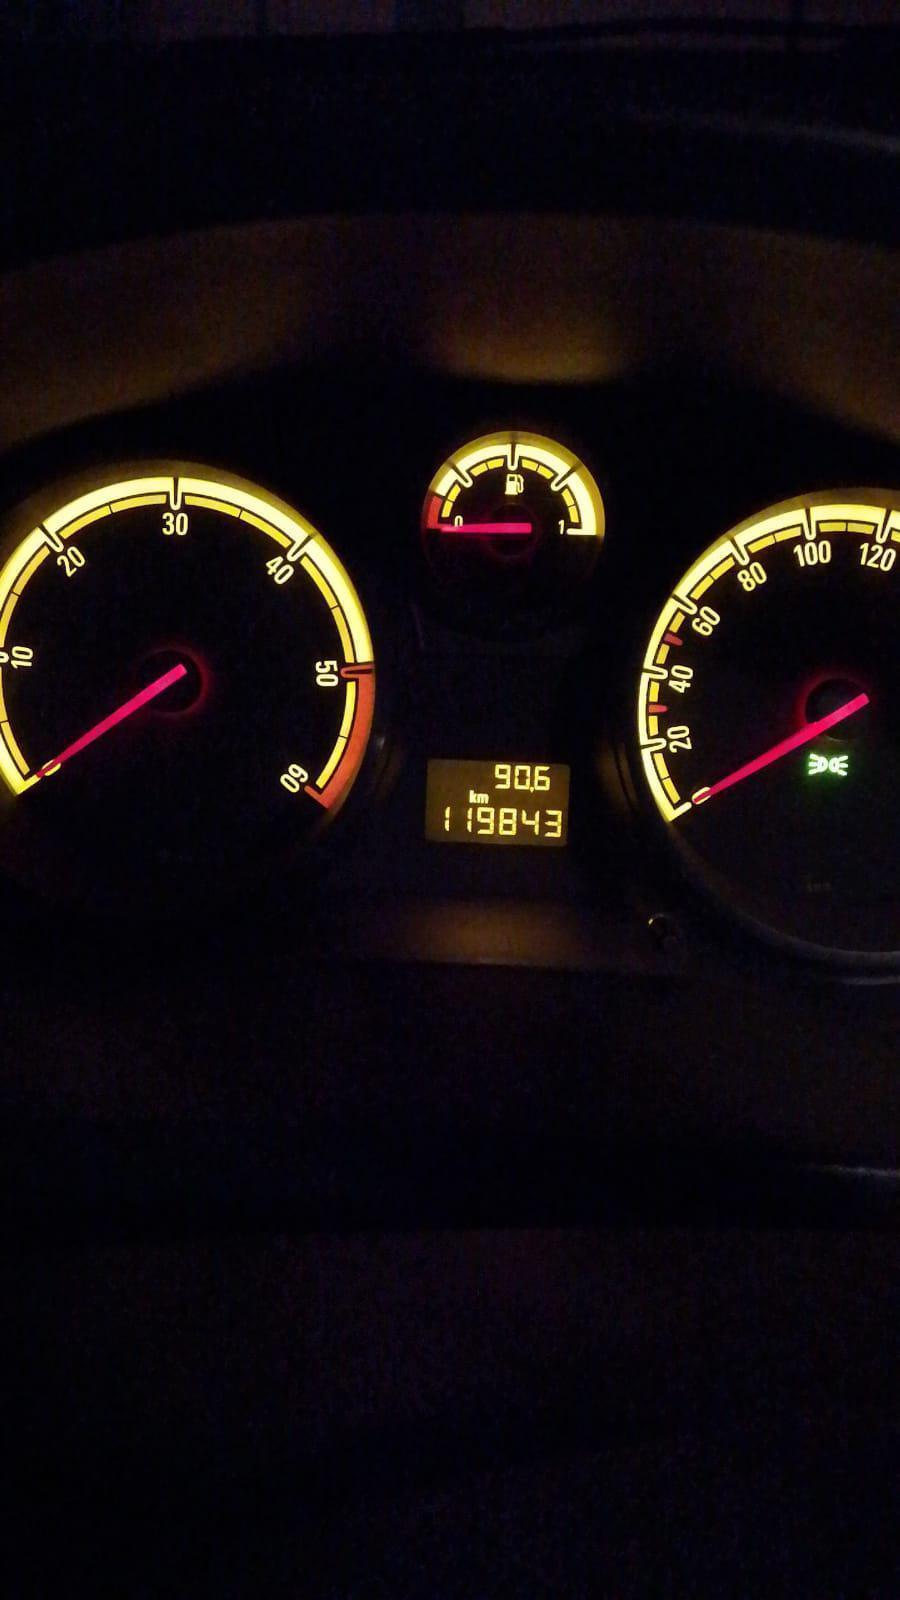,: (529, 786, 534, 792)
0: (513, 764, 530, 790)
1: (443, 805, 451, 832), (465, 807, 473, 833)
3: (543, 809, 562, 838)
4: (521, 809, 540, 835)
6: (533, 765, 551, 790)
8: (498, 807, 516, 835)
9: (476, 805, 495, 834), (493, 763, 511, 790)
X: (476, 793, 489, 804), (468, 789, 476, 803)
odometer: (421, 755, 573, 849)
